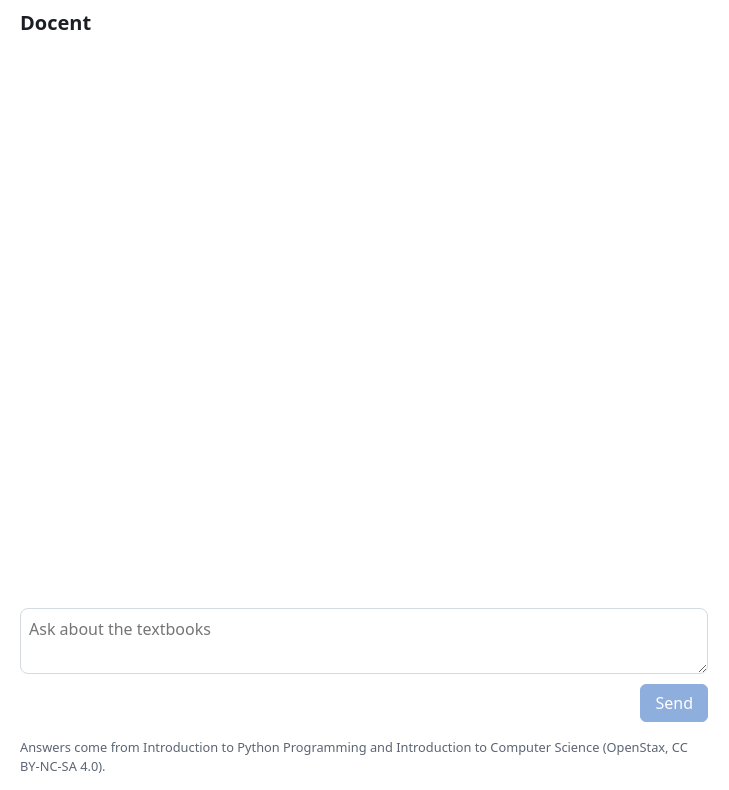
Test: states › renders no_answer with the fixed sentence and no chips
In the text box named "Question": {"x": 364, "y": 641} left=20, top=608, right=708, bottom=674, type "How does precedence work?"
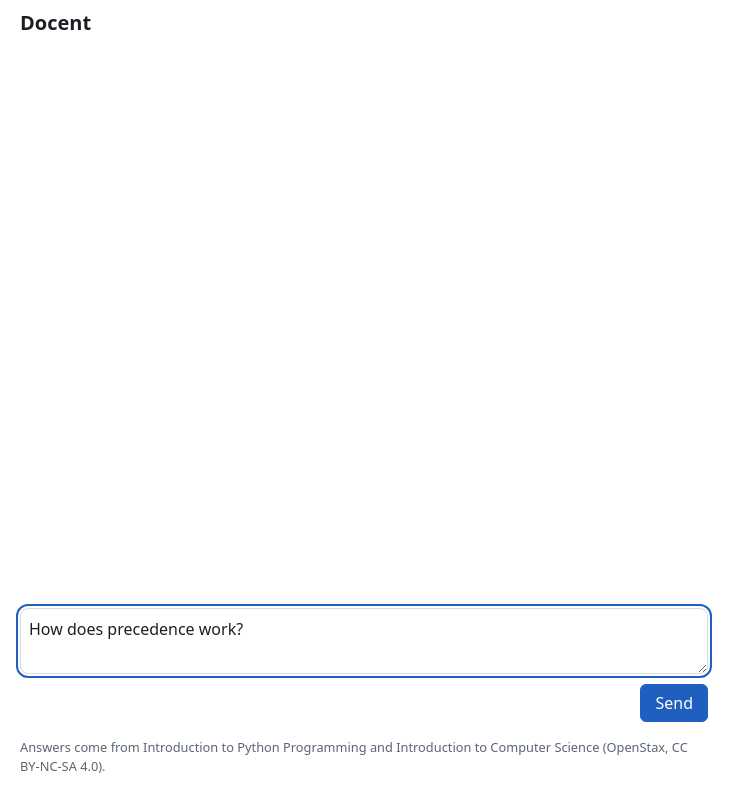
Press Enter
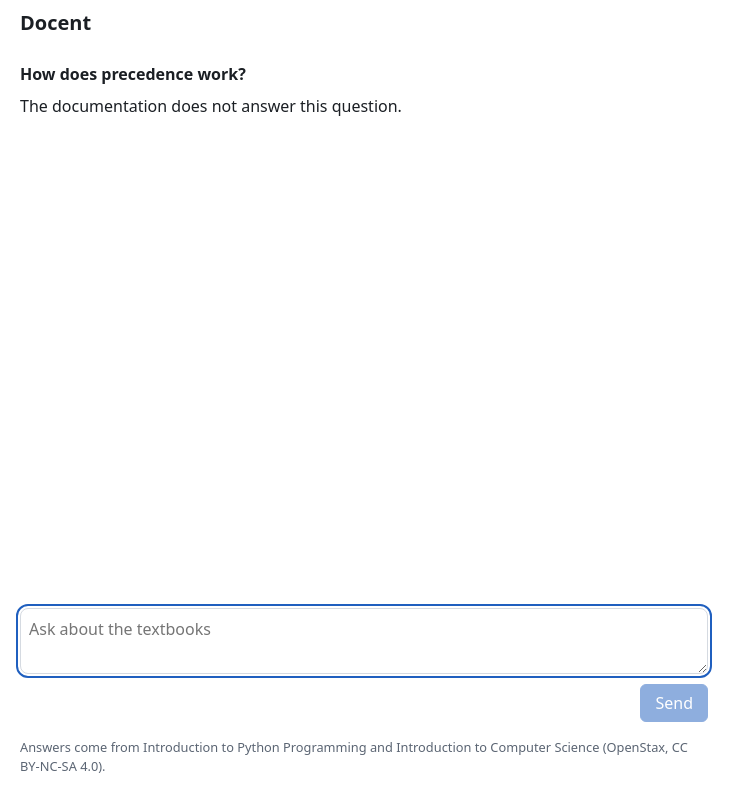
Expected: the text "The documentation does not answer this question." is shown once, left=20, top=95, right=402, bottom=117
